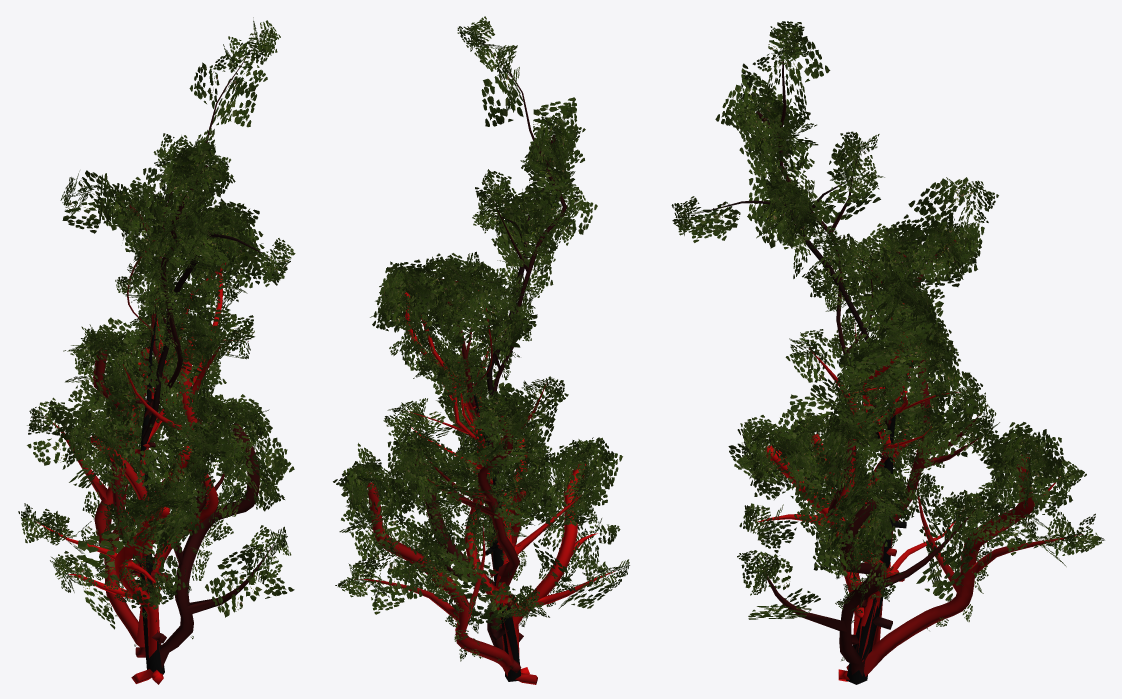
File: Tree_6.fbx
3 views of the same model, side by side, from view 1: azimuth 30°, elevation 25°; view 2: azimuth 150°, elevation 25°; view 3: azimuth 270°, elevation 25° (orthographic). The views are drawn at different scales.
Parts seen in each view (by area): view 1: Tree_3; view 2: Tree_3; view 3: Tree_3.
Boxes of the visible parts, x1,y1,x2,y2 form: Tree_3: (18,17,295,684); Tree_3: (333,16,629,684); Tree_3: (671,21,1104,684).
Bounding box in the file's own units: 688 × 1748 × 1002.
